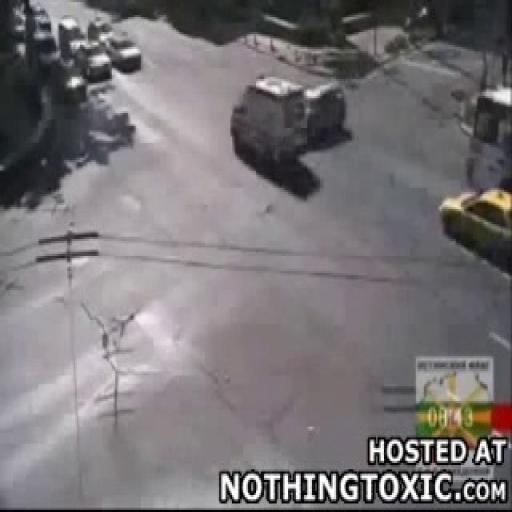Car: (230, 81, 310, 163), (439, 187, 511, 262), (462, 86, 512, 192), (303, 85, 349, 141), (100, 32, 141, 72), (74, 40, 112, 81), (33, 32, 62, 74), (230, 102, 252, 153), (58, 16, 84, 58), (57, 64, 84, 97), (32, 4, 54, 38), (87, 16, 112, 42)
Minor Accident: (230, 78, 352, 164)
